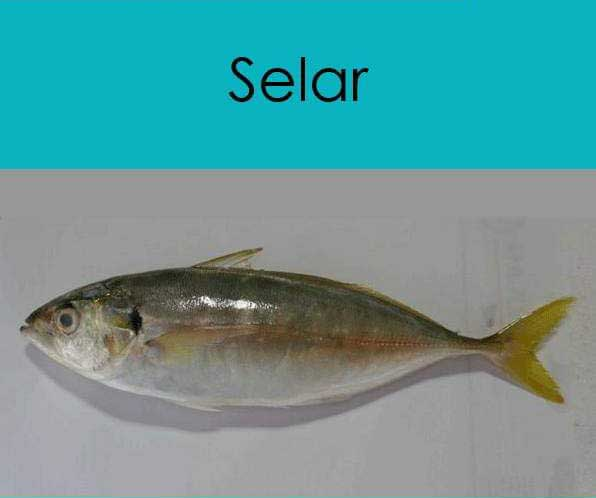Ikan Selar: (20, 244, 594, 425)
